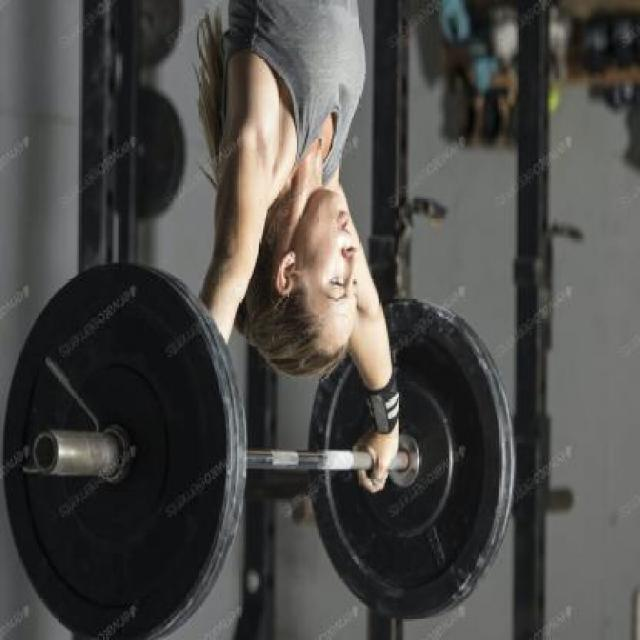Barbell: (29, 426, 62, 480)
